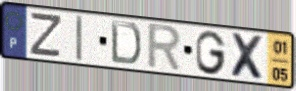D: (109, 19, 143, 68)
G: (195, 29, 228, 76)
I: (75, 14, 85, 64)
R: (145, 22, 185, 75)
X: (229, 31, 267, 83)
Z: (27, 12, 64, 60)
